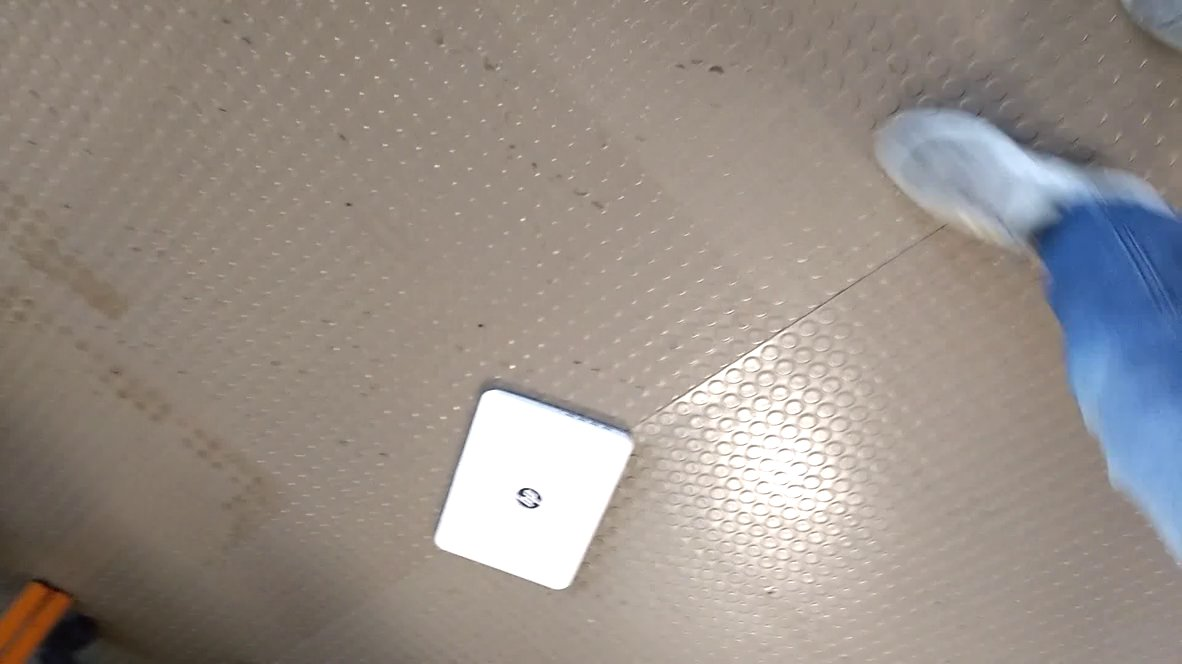laptop: (431, 373, 638, 600)
